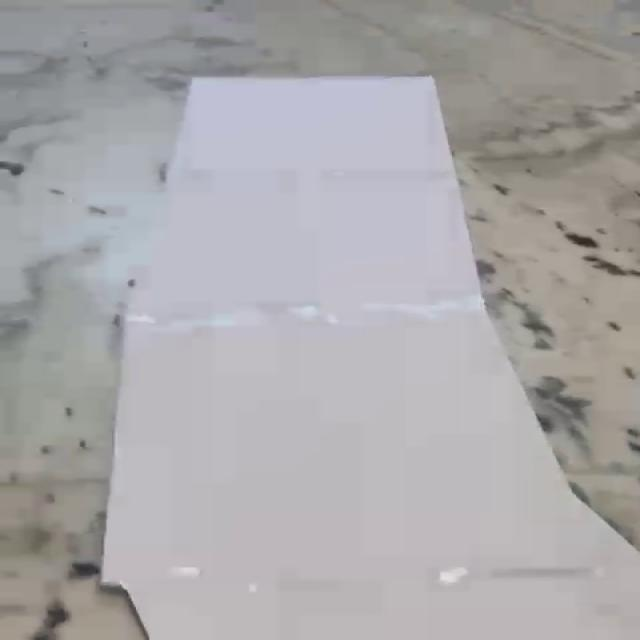road: (101, 76, 640, 640)
